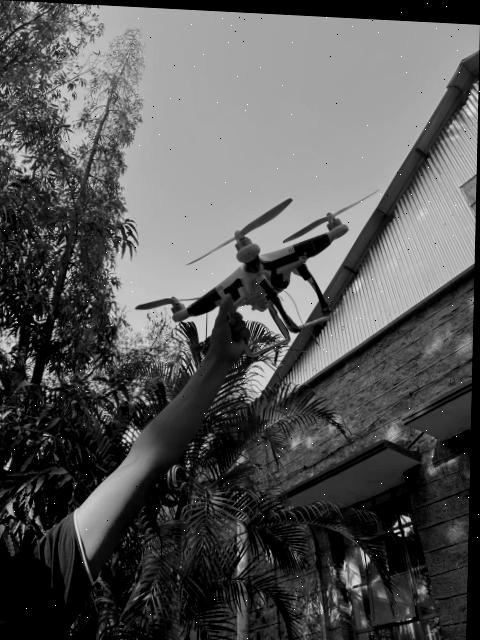drone: (124, 177, 377, 363)
